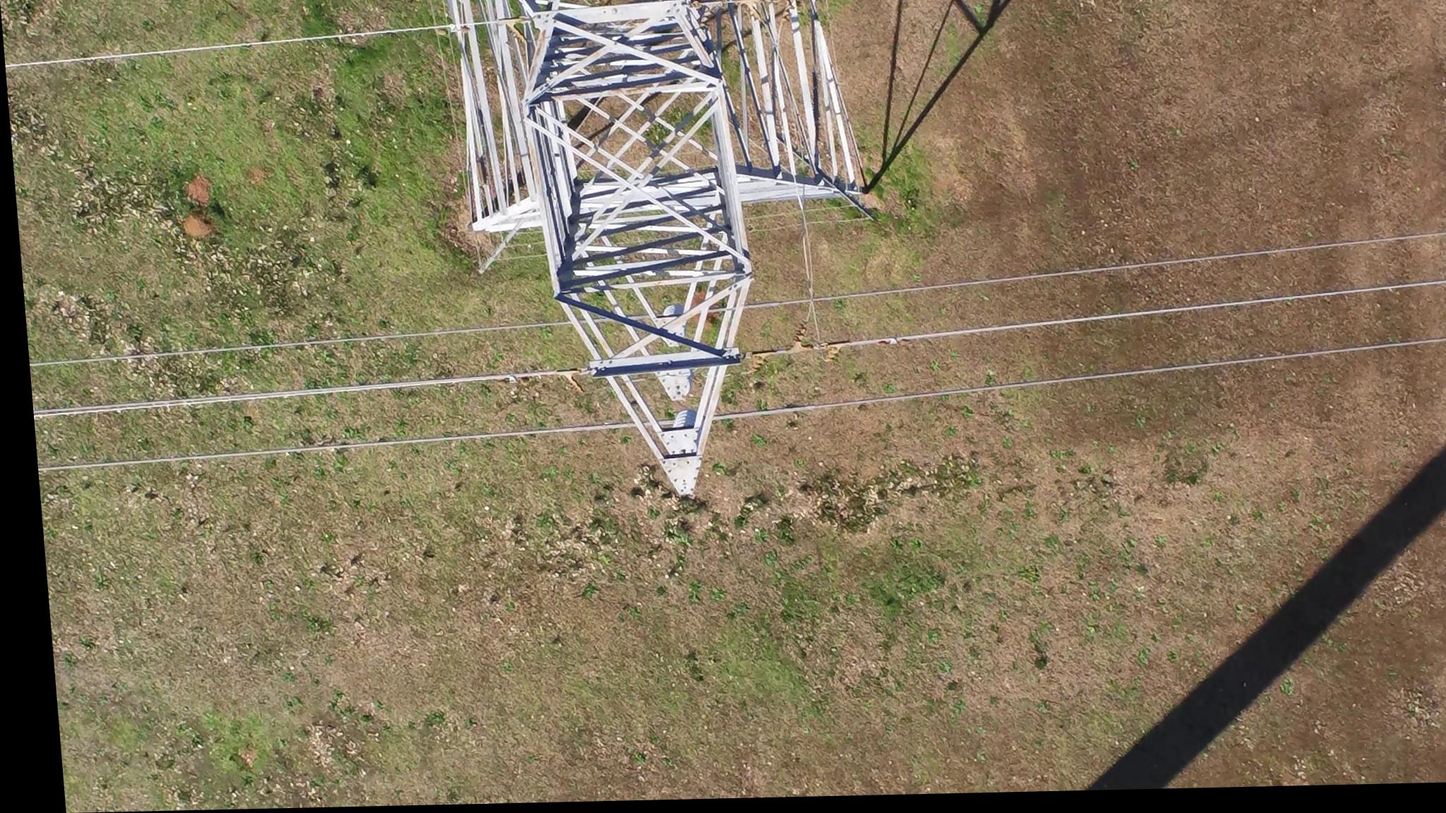tower: (441, 0, 898, 505)
